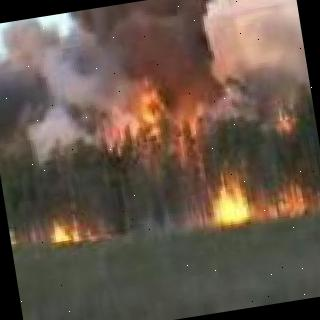fire: (122, 75, 184, 143), (210, 169, 259, 228), (278, 175, 320, 221), (48, 223, 86, 245)
